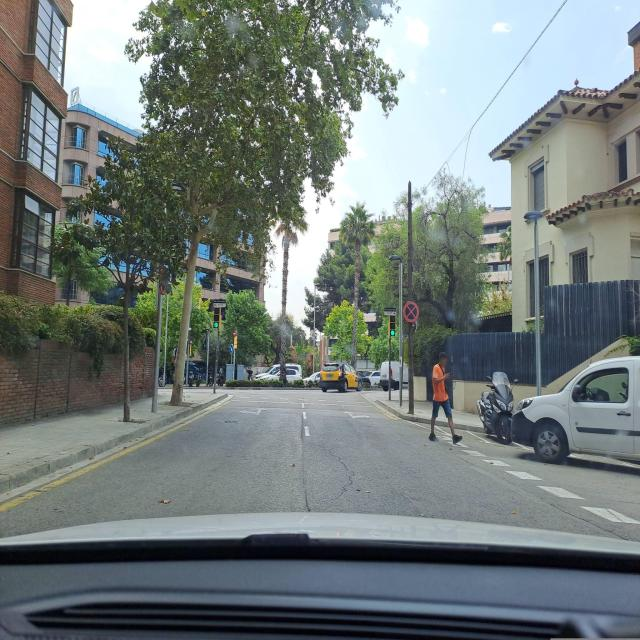bike: (478, 373, 514, 440)
car: (510, 351, 640, 485), (320, 362, 361, 392), (358, 369, 381, 388), (306, 372, 322, 388)
